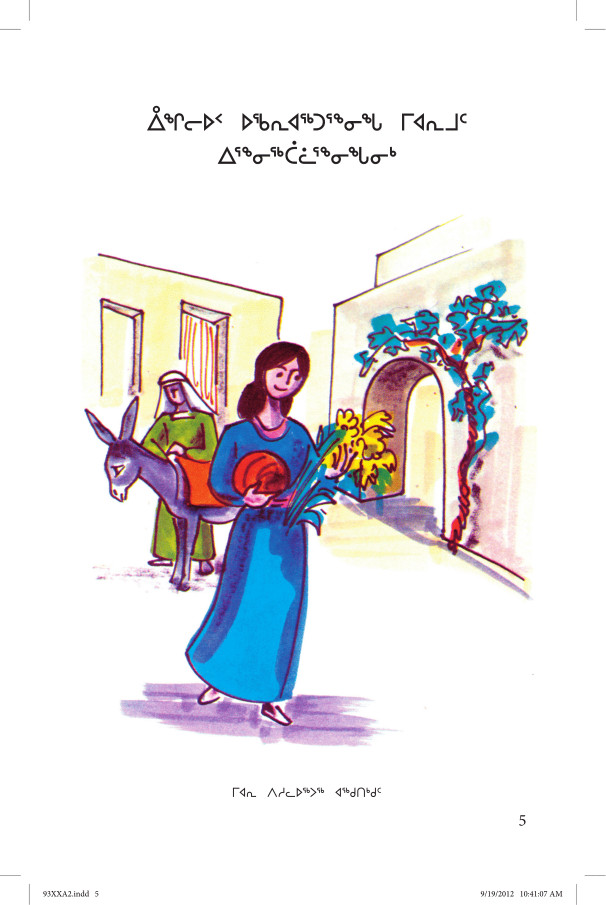inuktitut: (138, 97, 473, 135), (210, 136, 401, 169), (224, 780, 386, 803)
